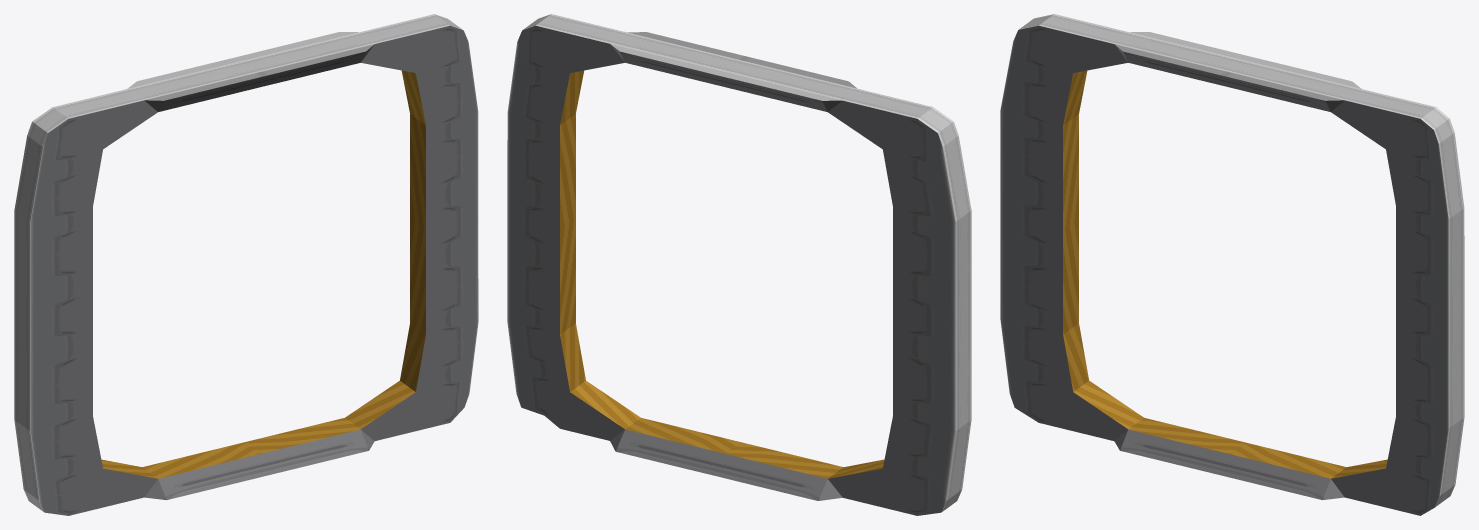
Rendered from mdlCargoDoorCollision.fbx.
3 views of the same model, side by side, from view 1: azimuth 30°, elevation 25°; view 2: azimuth 150°, elevation 25°; view 3: azimuth 330°, elevation 25° (orthographic).
Parts seen in each view (by area): view 1: CargoGate.001; view 2: CargoGate.001; view 3: CargoGate.001.
Part boxes in pixels (x1=…): CargoGate.001: x1=14, y1=14, x2=478, y2=515; CargoGate.001: x1=507, y1=14, x2=971, y2=515; CargoGate.001: x1=1000, y1=14, x2=1464, y2=515.
Size of the model in its own units: 61.51 by 52.07 by 8.05.
